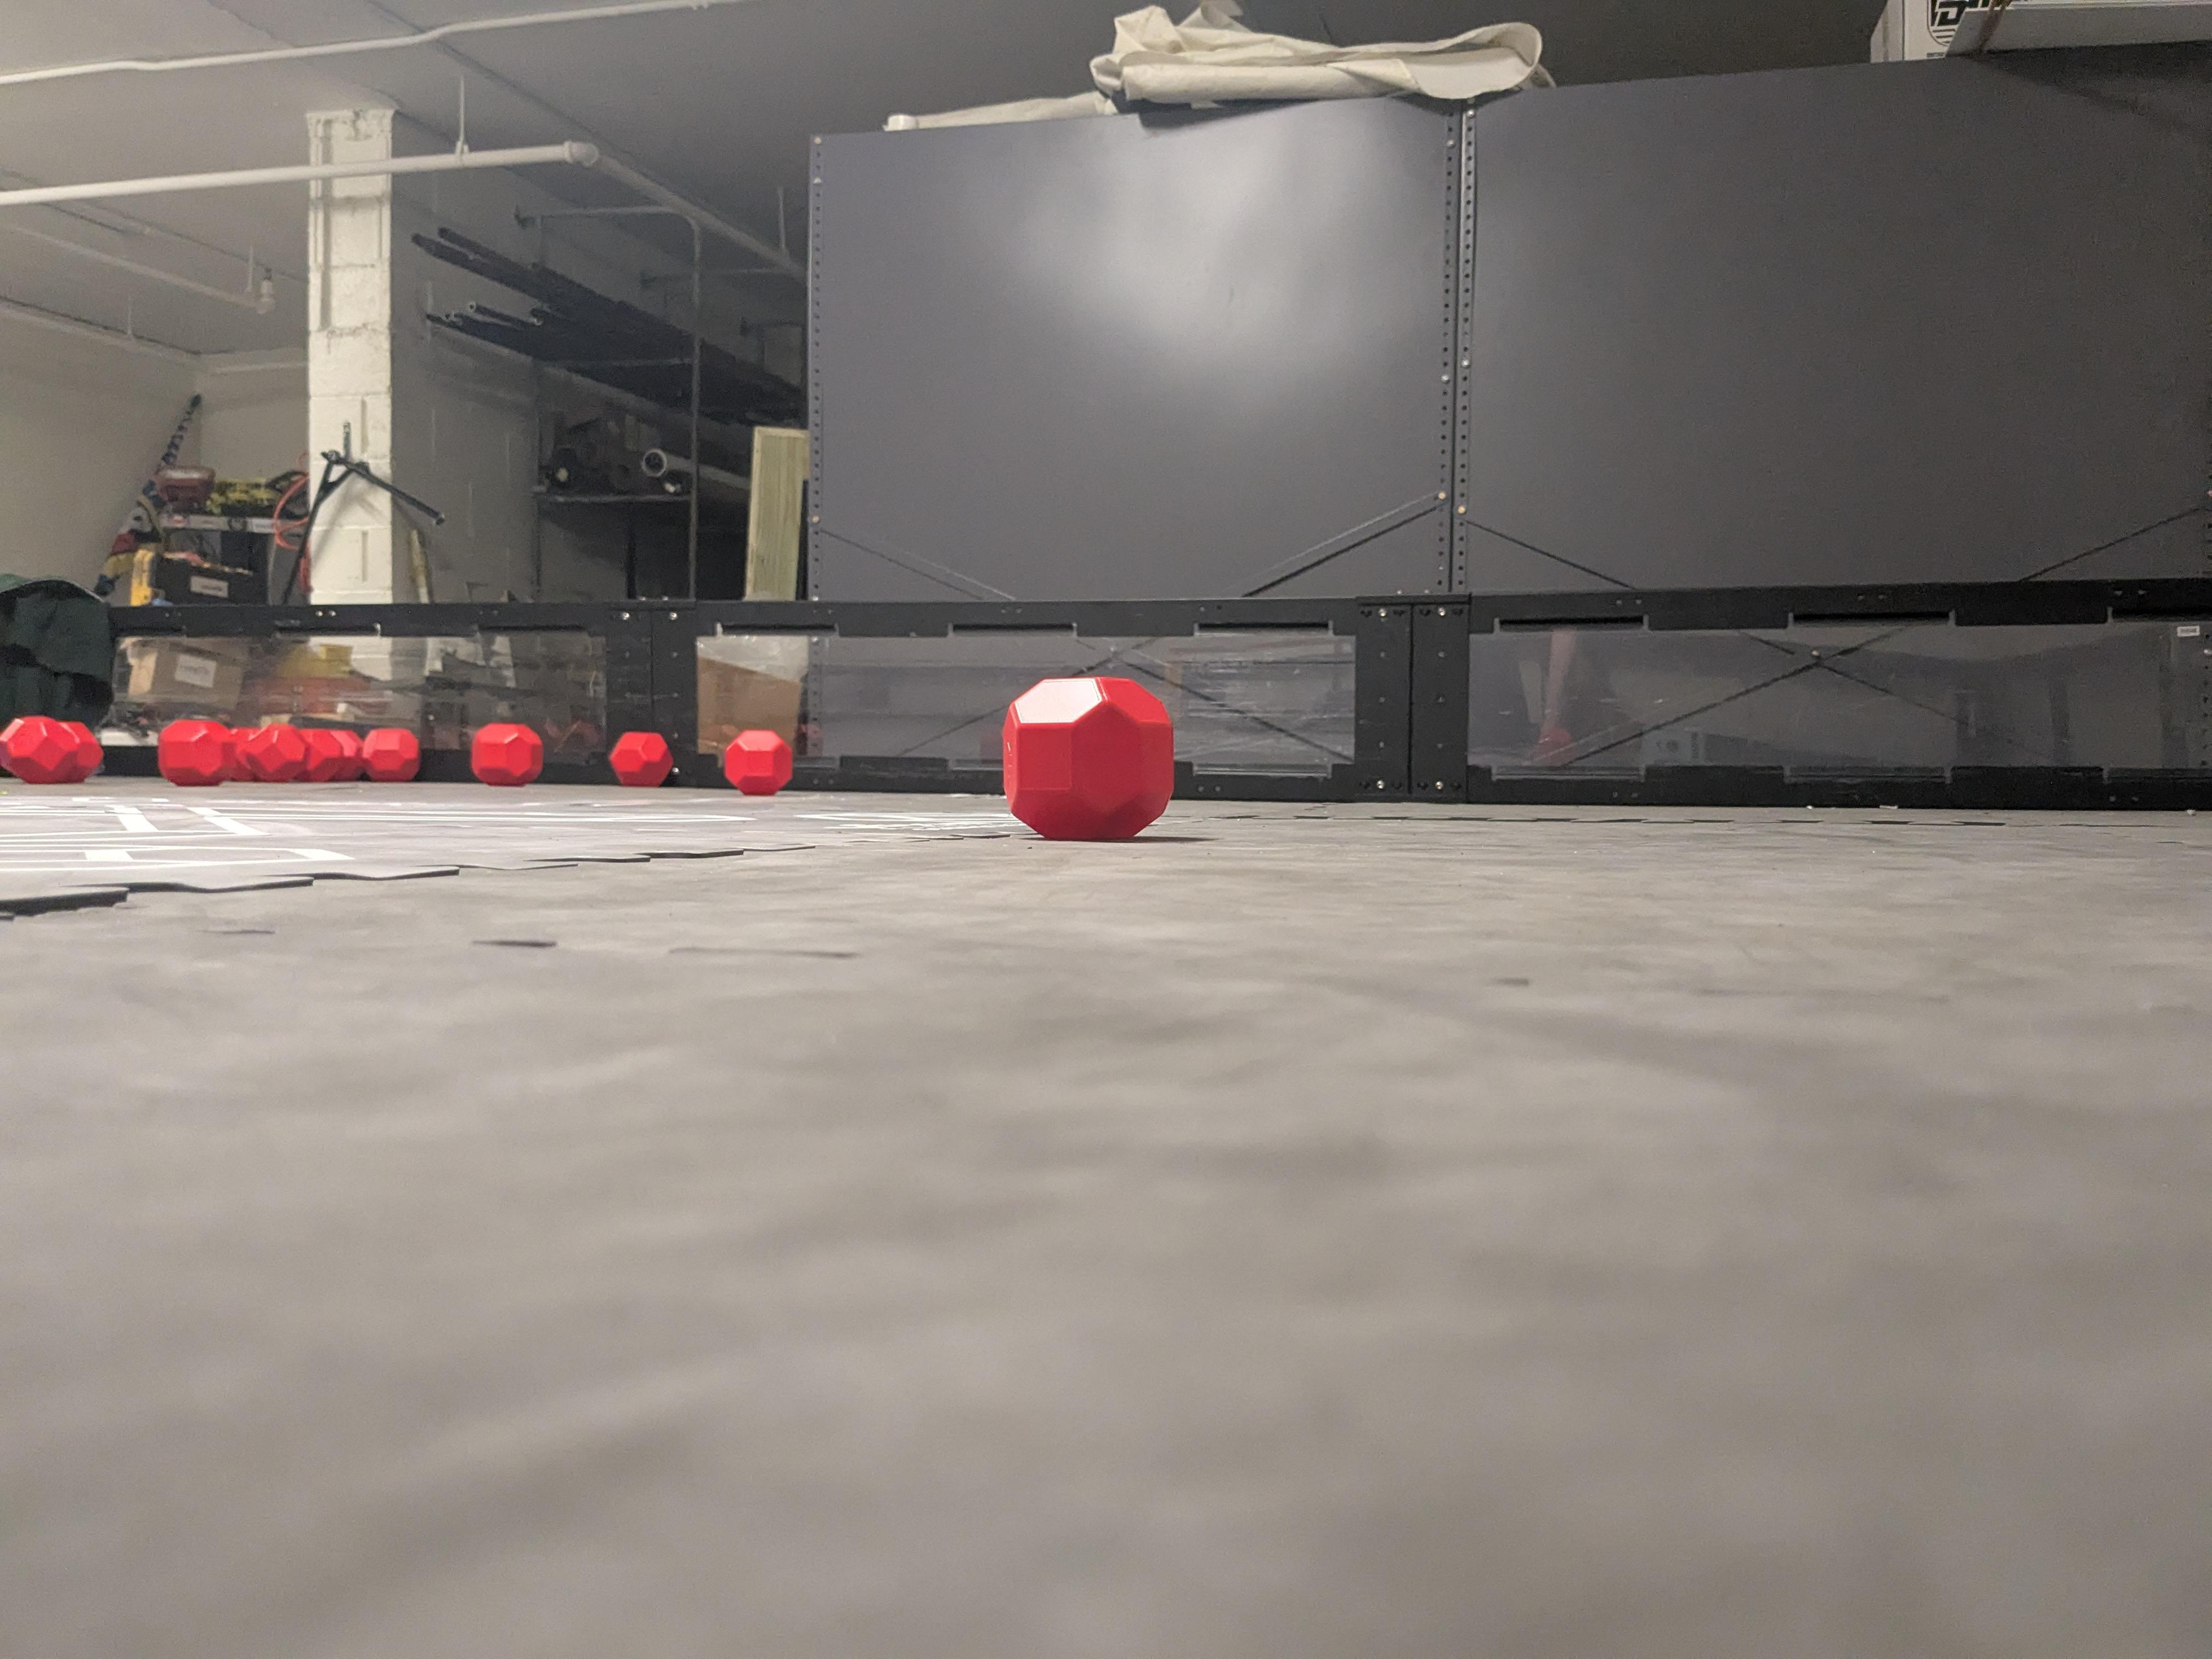Vex-Pieces-RED: (1001, 678, 1170, 835), (0, 716, 103, 784), (157, 718, 235, 786), (470, 723, 543, 786), (723, 730, 792, 795), (235, 725, 308, 782), (610, 732, 672, 786), (361, 727, 420, 781), (303, 728, 362, 781)
